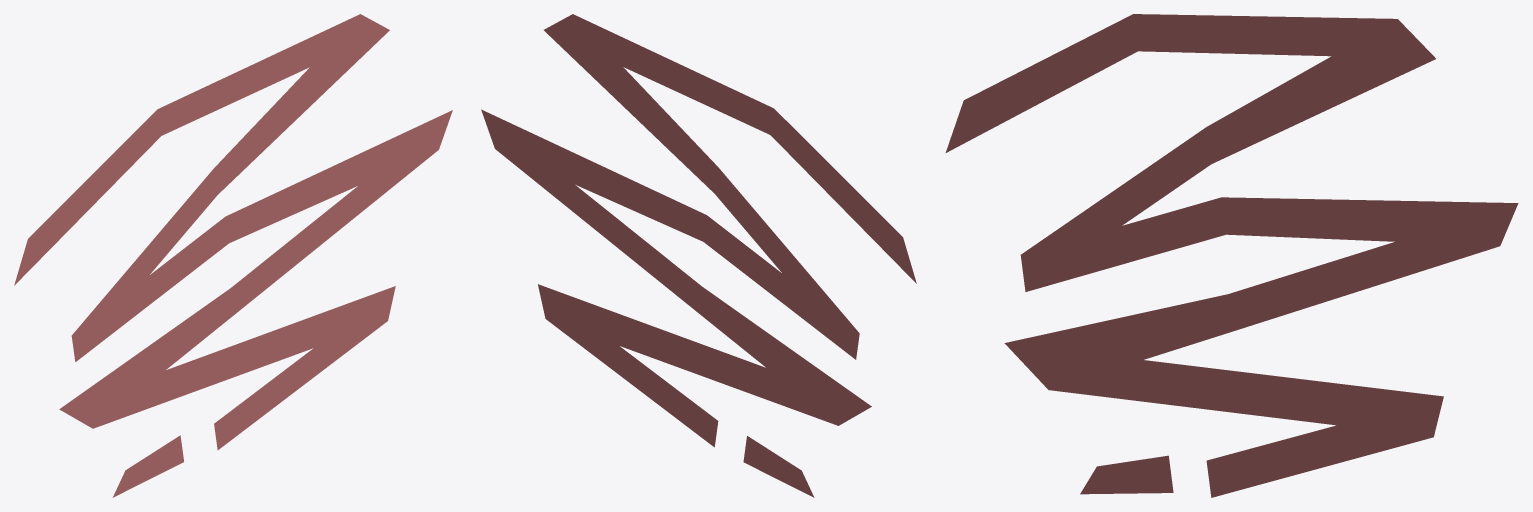
File: wall_grafitti_2.glb
3 views of the same model, side by side, from view 1: azimuth 30°, elevation 25°; view 2: azimuth 150°, elevation 25°; view 3: azimuth 330°, elevation 25° (orthographic). The views are drawn at different scales.
Parts seen in each view (by area): view 1: wall_grafitti_2; view 2: wall_grafitti_2; view 3: wall_grafitti_2.
Part boxes in pixels (x1,y1,x2,y2): wall_grafitti_2: (14,14,452,497); wall_grafitti_2: (481,14,916,497); wall_grafitti_2: (945,14,1518,497).
Bounding box in the file's own units: 0.515 × 0.4773 × 0.00461.
